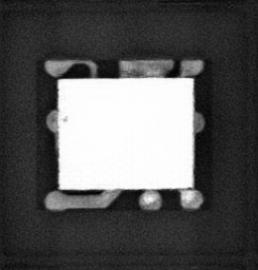DIE_INK: (61, 113, 68, 122)
